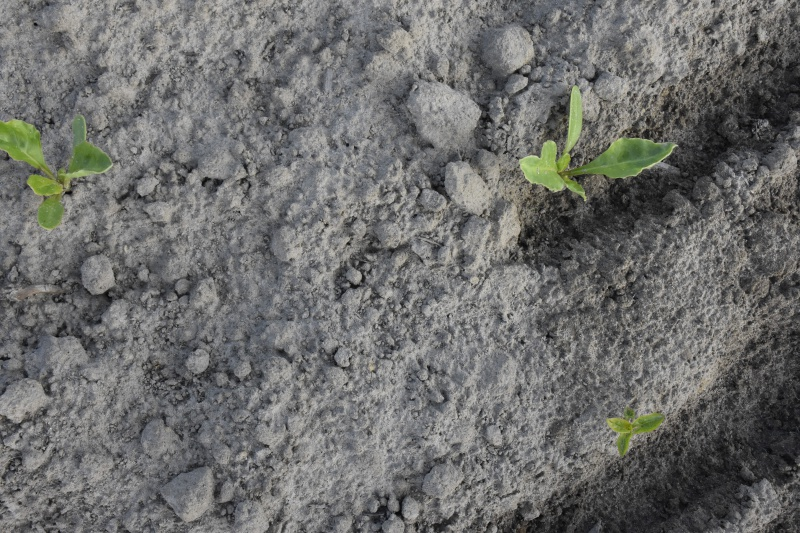field bindweed: (603, 411, 673, 461)
sugar beet: (521, 78, 682, 207), (1, 111, 116, 232)
